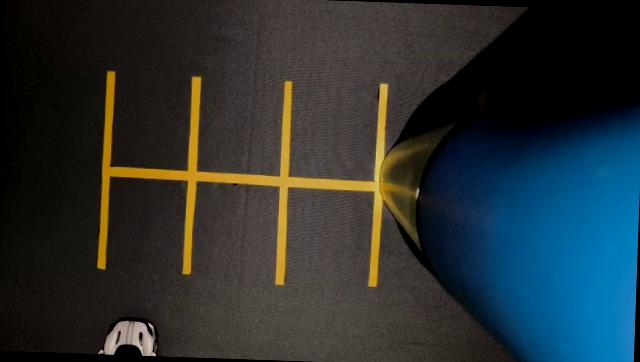toy_car: (87, 281, 171, 357)
